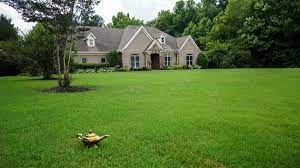grass: (117, 73, 297, 165), (1, 78, 74, 164), (76, 75, 114, 128), (76, 144, 117, 165)
